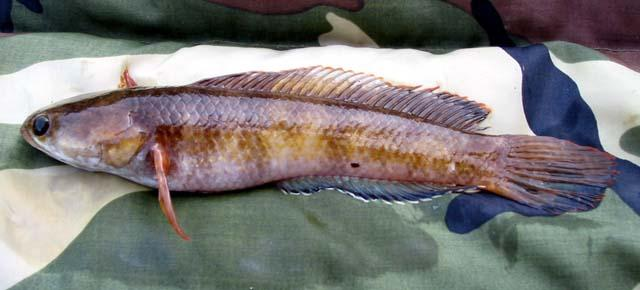Mulut: (15, 112, 79, 176)
Sirip Anal: (274, 172, 472, 208)
Sirip Dada: (140, 140, 204, 242), (102, 53, 146, 93)
Sirip Ekor: (492, 122, 628, 218)
Sirip Punggung: (195, 58, 491, 134)
